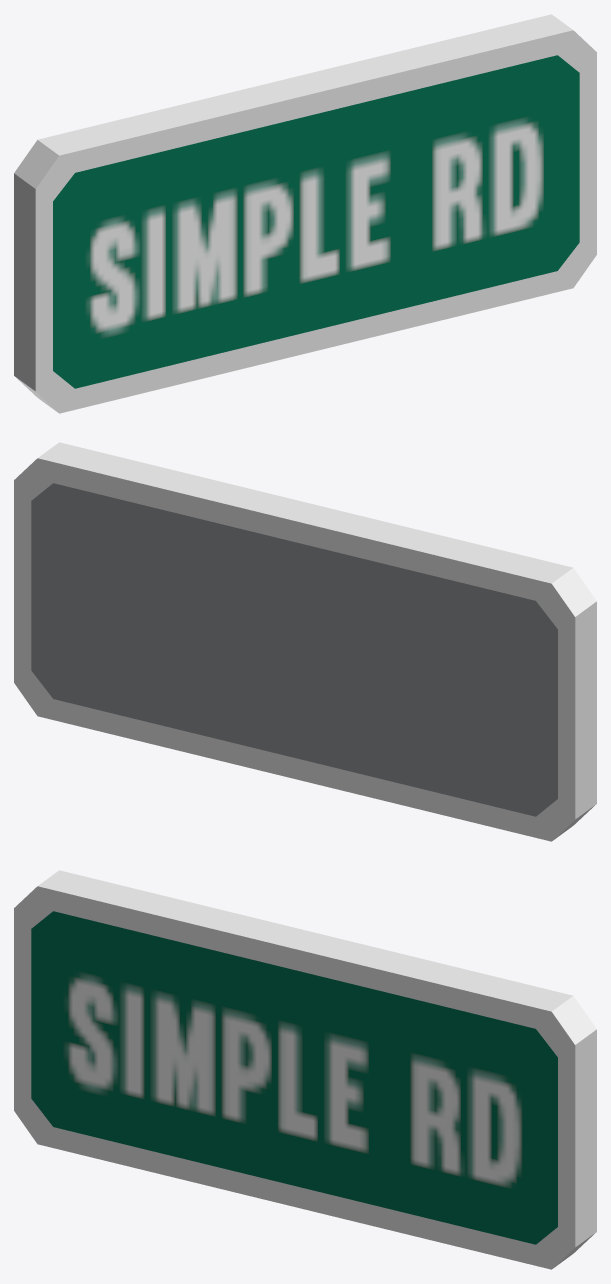
File: SM_Prop_StreetSign_03.fbx
3 views of the same model, one above another, from view 1: azimuth 30°, elevation 25°; view 2: azimuth 150°, elevation 25°; view 3: azimuth 330°, elevation 25° (orthographic).
Visible parts, largest first — view 1: SM_Prop_StreetSign_03; view 2: SM_Prop_StreetSign_03; view 3: SM_Prop_StreetSign_03.
Boxes of the visible parts, left/top/right/bottom form: SM_Prop_StreetSign_03: left=14, top=14, right=596, bottom=413; SM_Prop_StreetSign_03: left=14, top=442, right=596, bottom=841; SM_Prop_StreetSign_03: left=14, top=870, right=596, bottom=1269.
Size of the model in its own units: 65.4 by 28.74 by 4.4.
